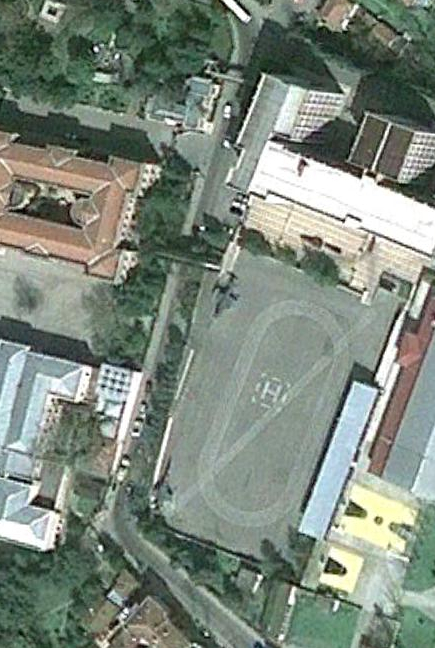heliport: (260, 377, 283, 406)
